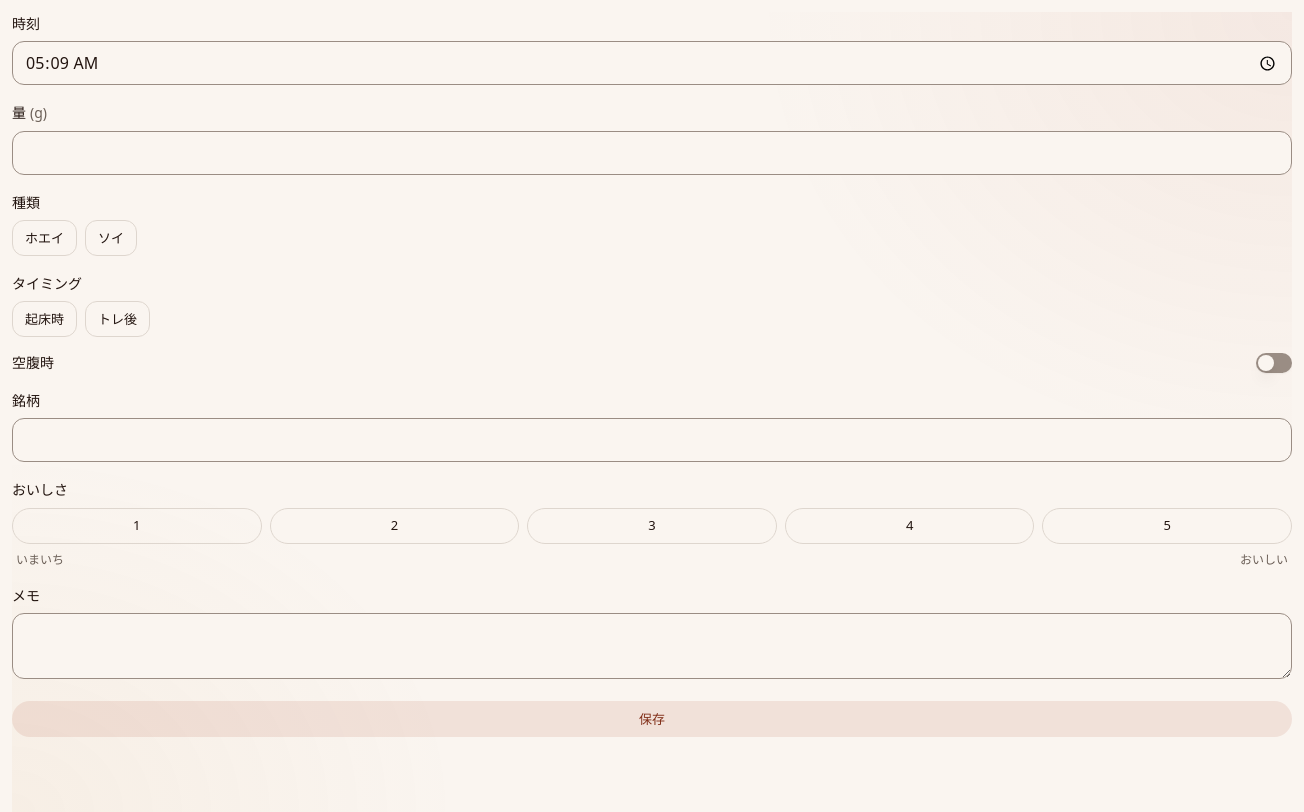
Test: CustomRecordForm › does not save without a required value
Click the button "保存".
click(652, 719)  # box [12,701,1292,737]
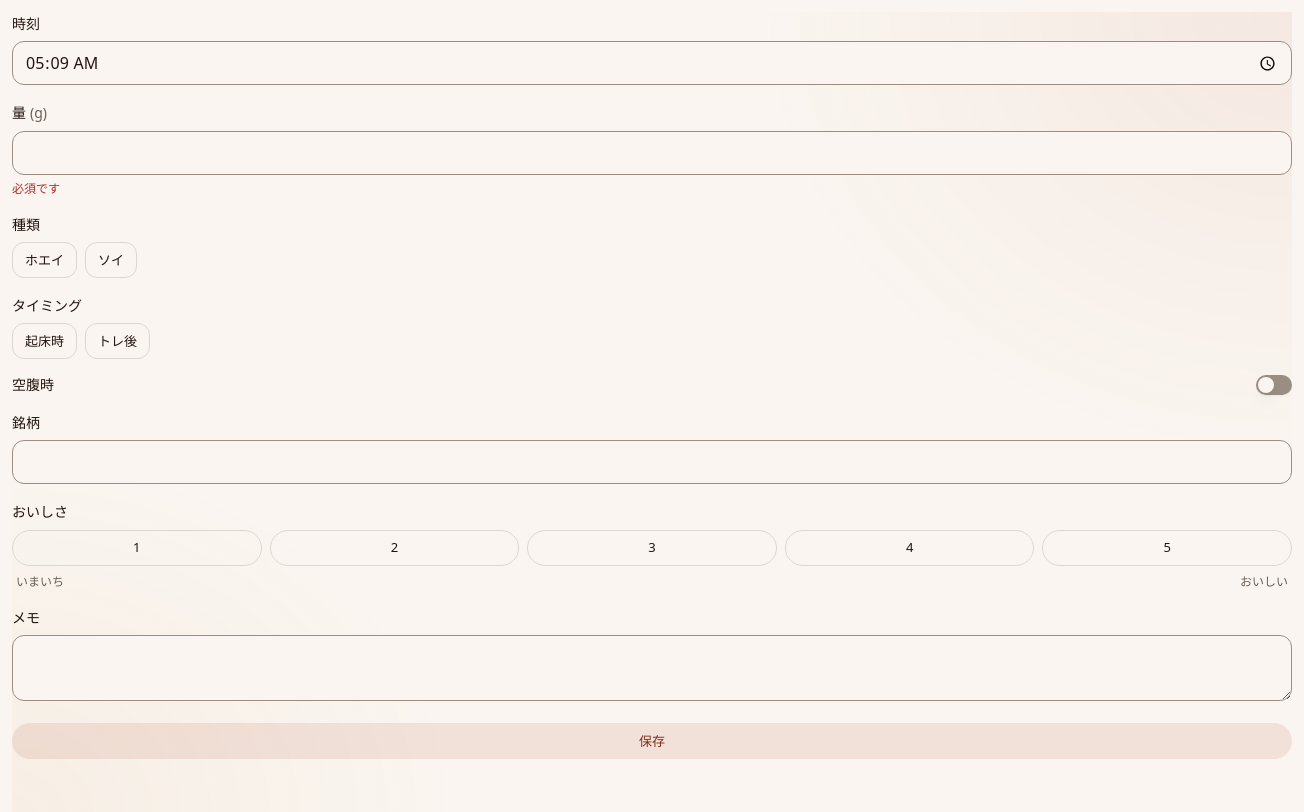
Now the text "必須です" is shown, box [12,180,60,196]
